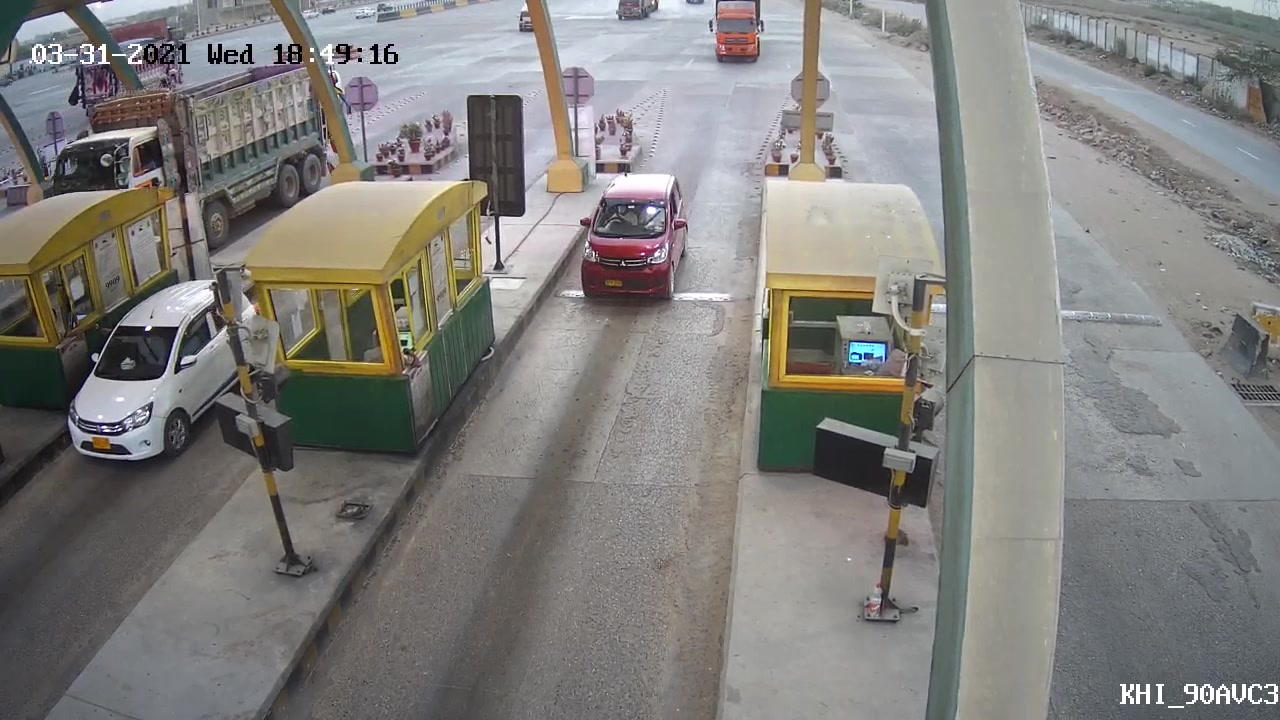F1: (569, 159, 702, 319)
